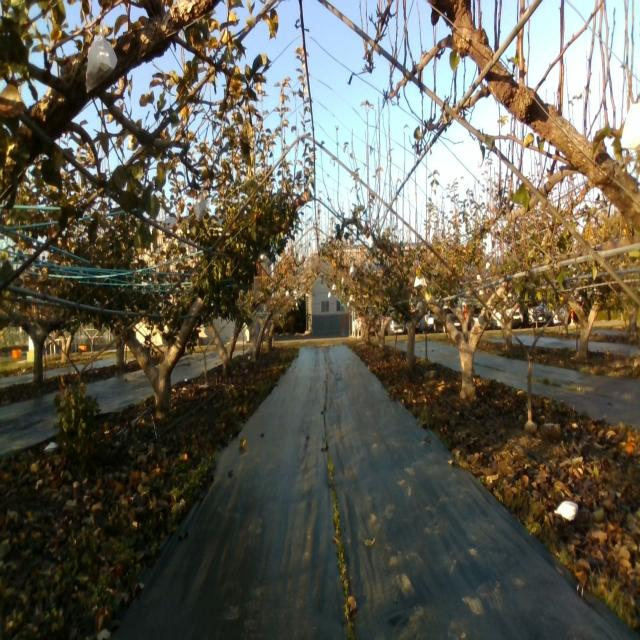pearbags: (85, 29, 118, 94), (621, 102, 640, 153), (194, 186, 206, 222)
